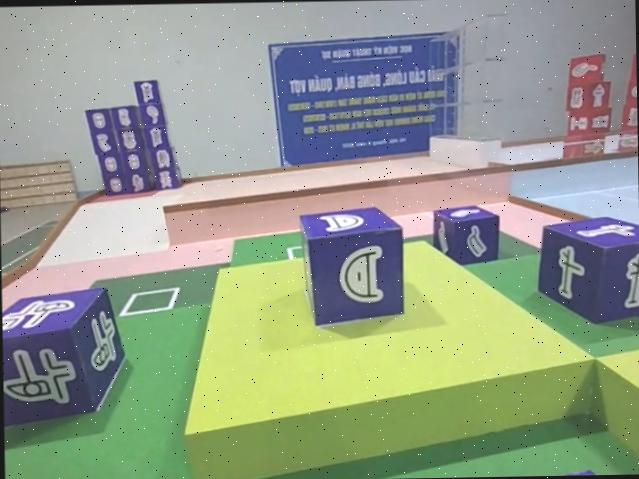R2 Real Blue: (1, 291, 125, 434), (296, 206, 405, 329), (532, 216, 639, 326), (432, 207, 502, 269)
